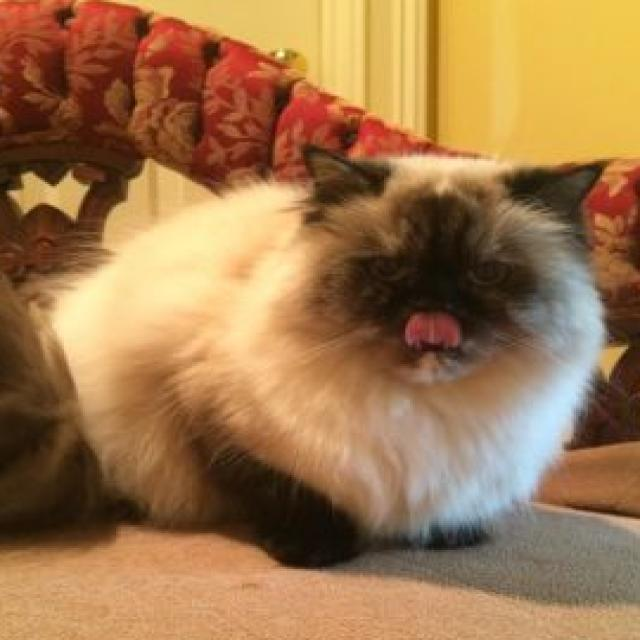Birman: (0, 144, 623, 573)
